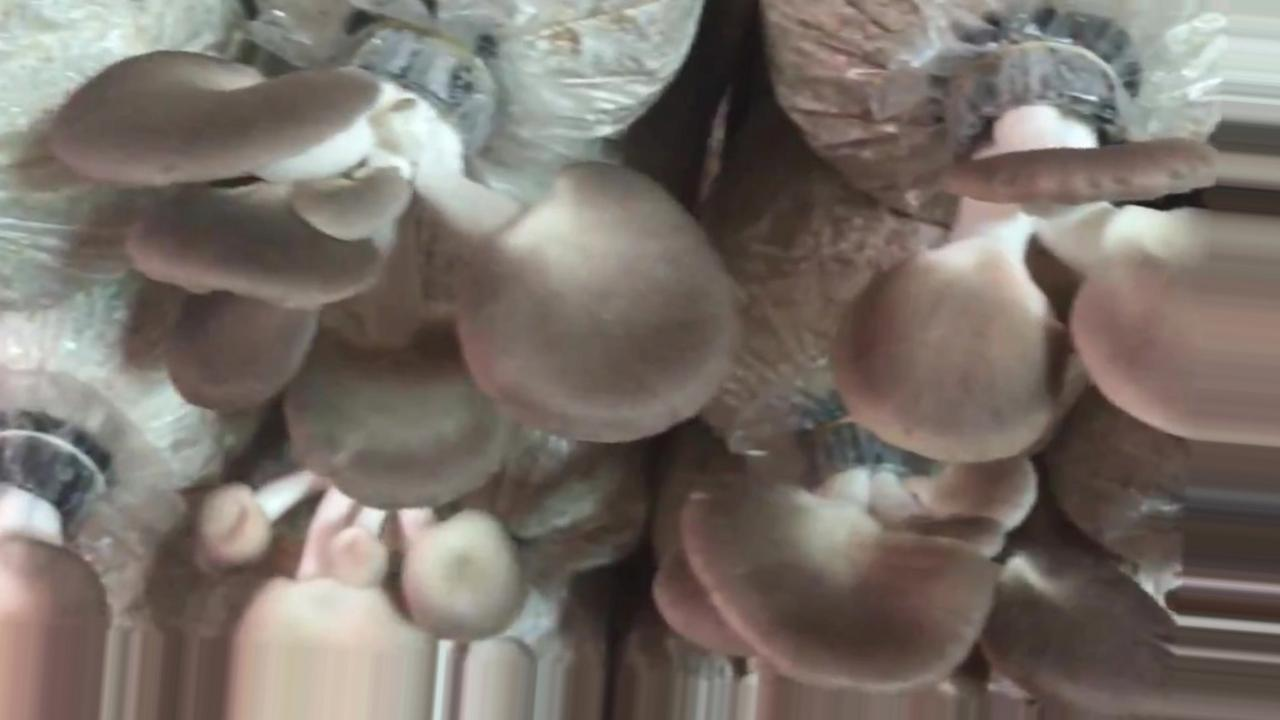nam: (53, 31, 736, 506), (832, 35, 1280, 454), (656, 423, 1178, 684), (204, 471, 523, 720), (2, 421, 114, 720)
